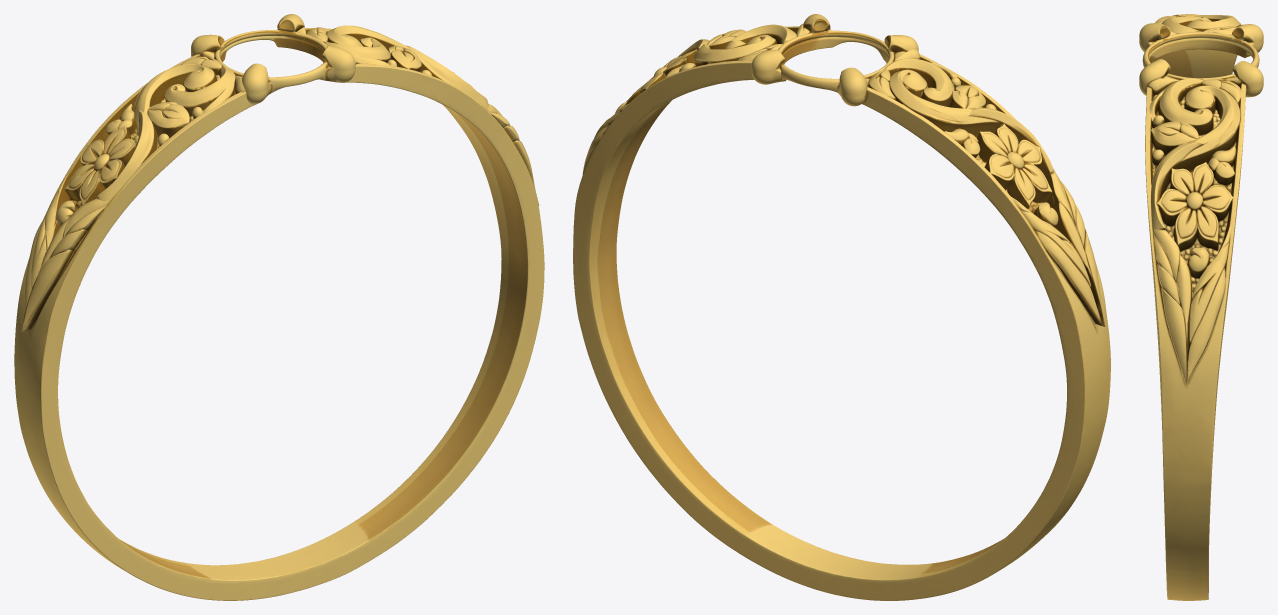
The model's file is nodiamond1.glb.
3 renders of one model, left to right at view 1: azimuth 30°, elevation 25°; view 2: azimuth 150°, elevation 25°; view 3: azimuth 270°, elevation 25°, orthographic. The views are drawn at different scales.
Bounding box in the file's own units: 1.9 × 1.9 × 0.4042.
1 material, 1 textured.
